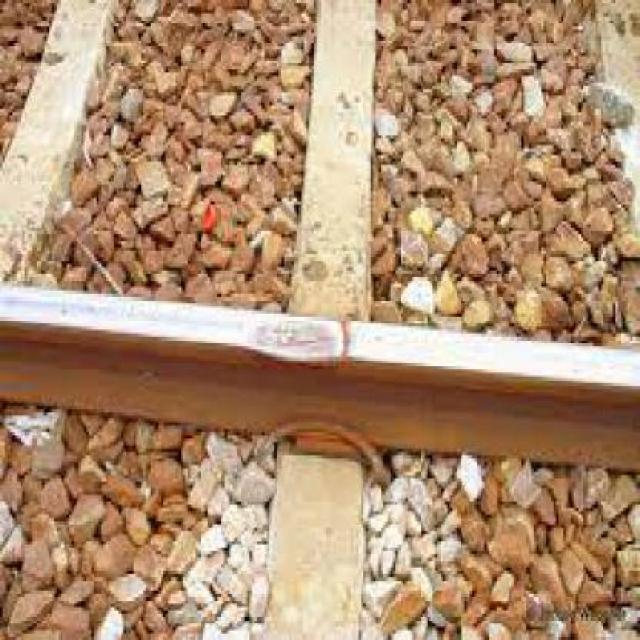defective: (205, 256, 501, 477)
